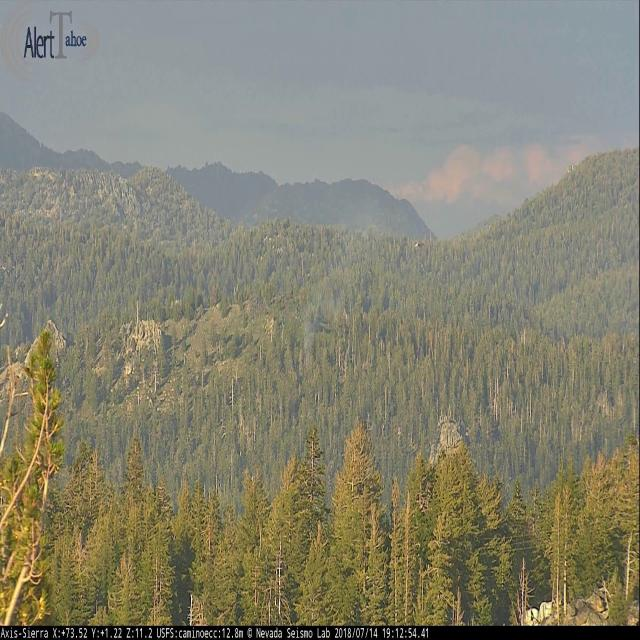smoke: (298, 201, 409, 354)
